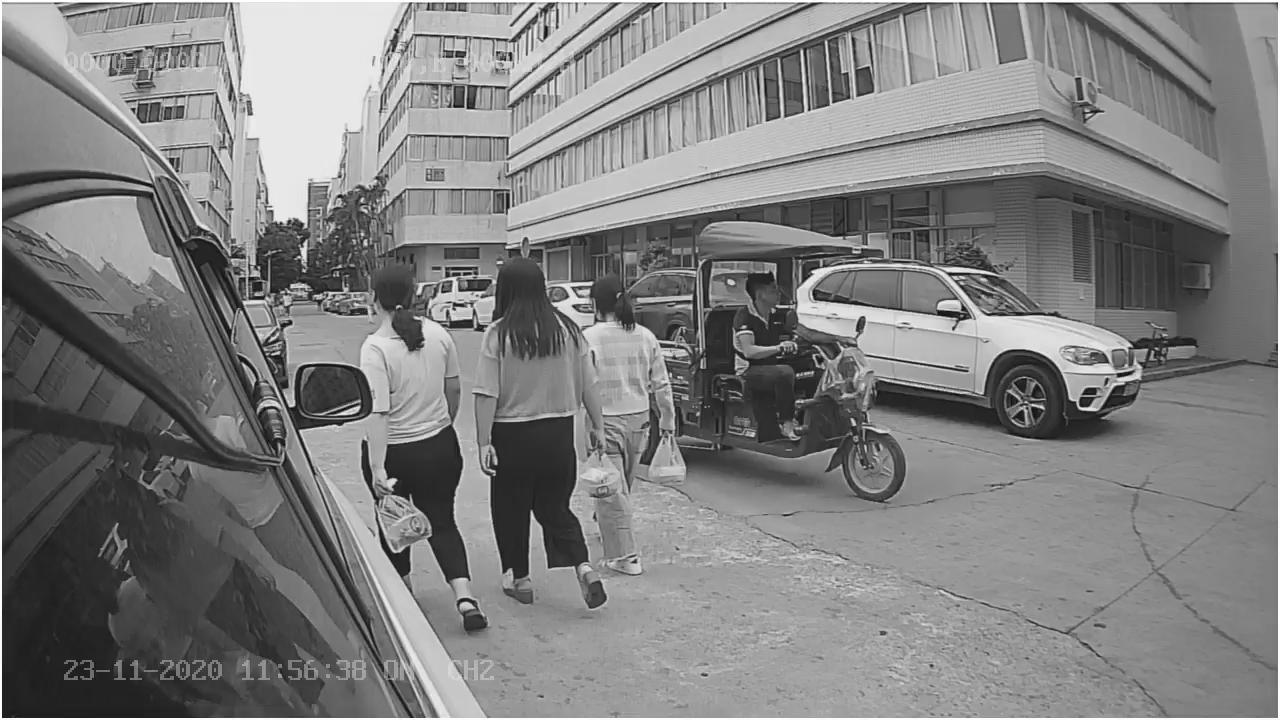person: (352, 254, 488, 636), (467, 251, 610, 613), (725, 271, 812, 367)
